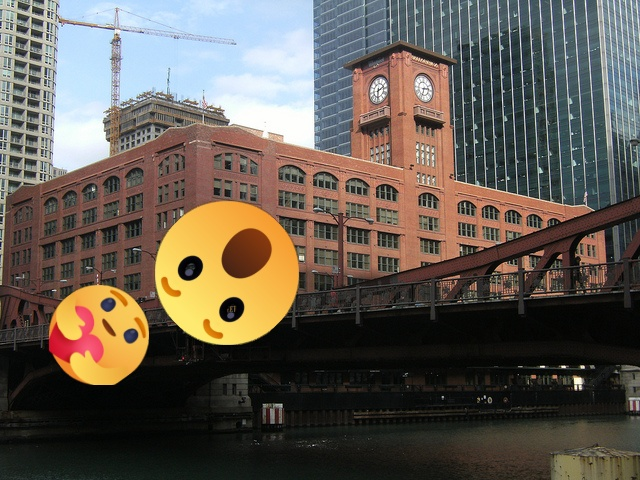care: (49, 285, 149, 385)
wow: (155, 201, 299, 345)
